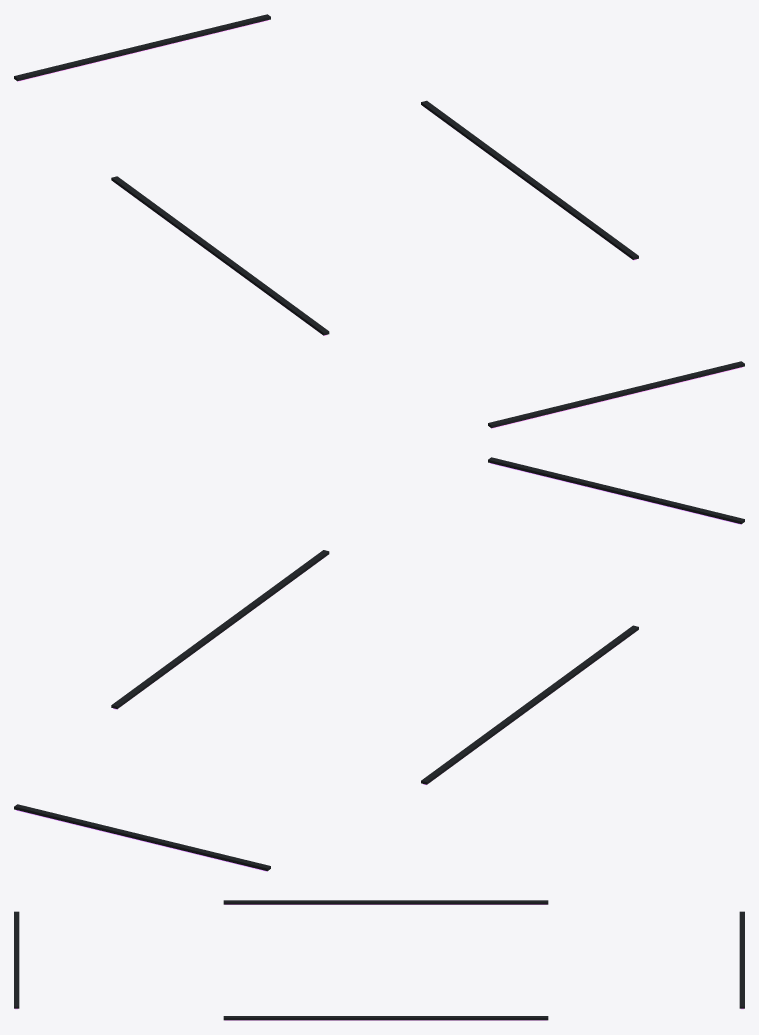
The model's file is kaze_gt.glb.
3 renders of one model, top to bottom at view 1: azimuth 30°, elevation 25°; view 2: azimuth 150°, elevation 25°; view 3: azimuth 270°, elevation 25°, orthographic. The views are drawn at different scales.
Parts seen in each view (by area): view 1: model; view 2: model; view 3: model.
Part boxes in pixels (x1,y1,x2,y2): model: (14, 14, 744, 428); model: (14, 457, 744, 871); model: (14, 900, 744, 1020).
Bounding box in the file's own units: 1.49 × 0.0181 × 3.9.
2 materials, 1 textured.
